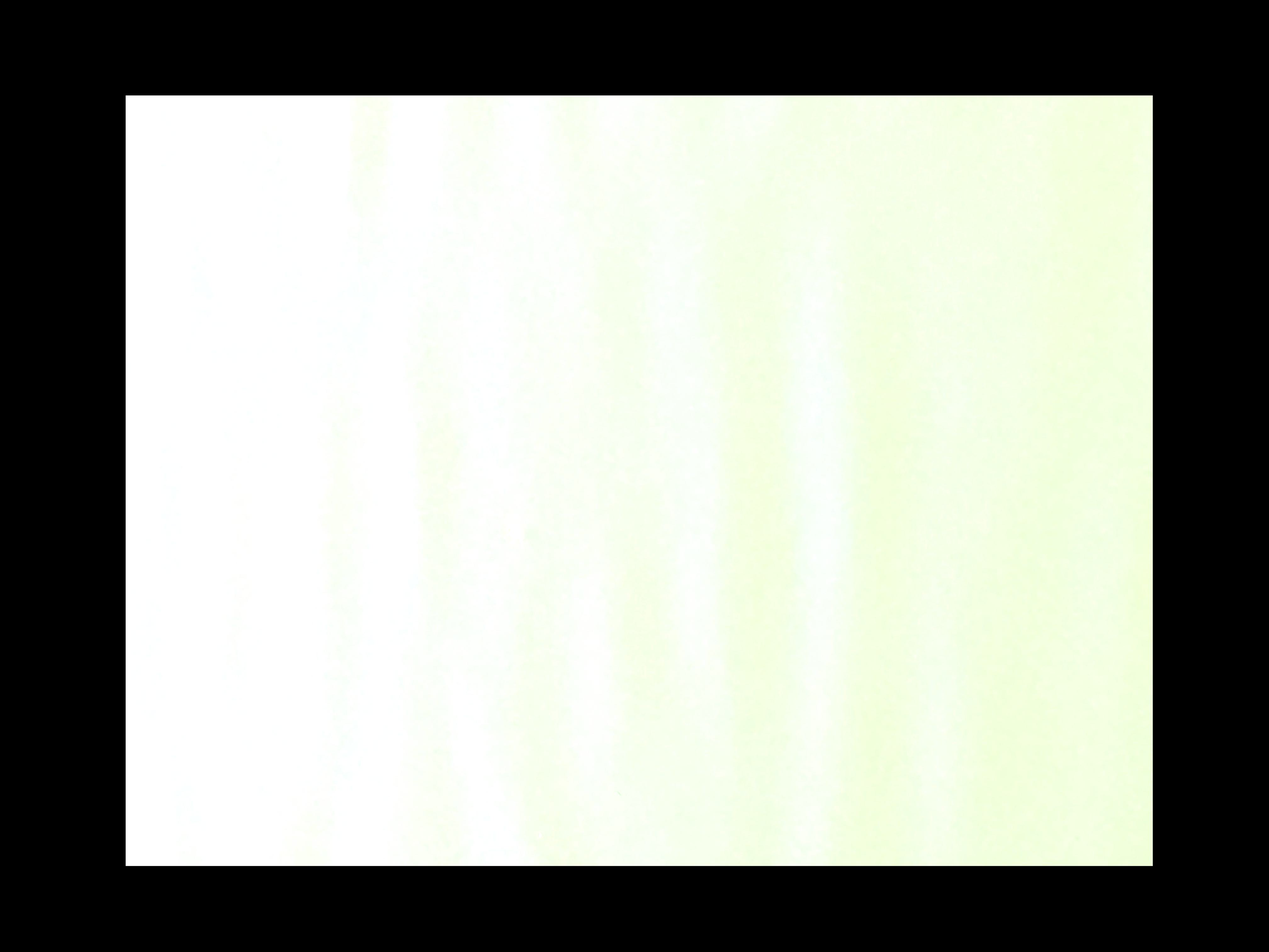Plastic wastes: (547, 498, 569, 517)
